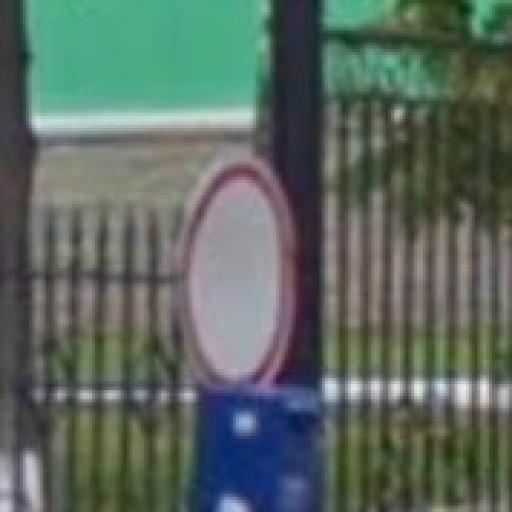traffic_sign: (171, 154, 297, 395)
